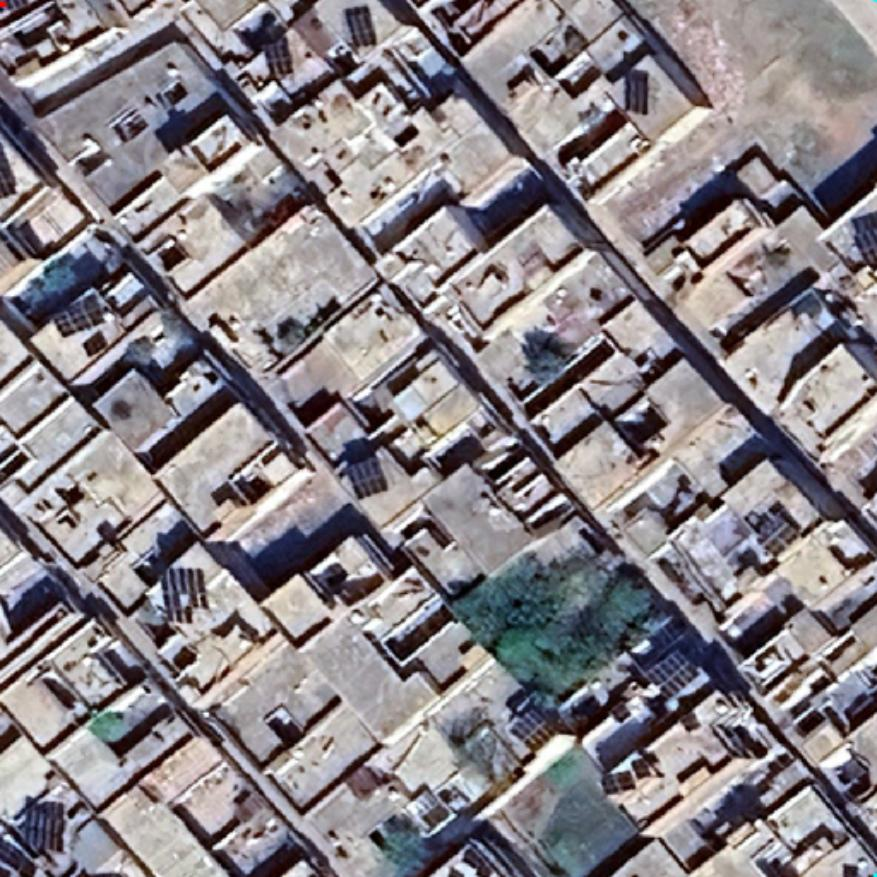Solarpanel: (158, 564, 208, 626), (646, 649, 700, 700), (342, 451, 392, 503), (52, 294, 106, 338), (508, 706, 558, 752), (342, 3, 378, 51), (622, 66, 652, 118), (263, 36, 296, 78)
